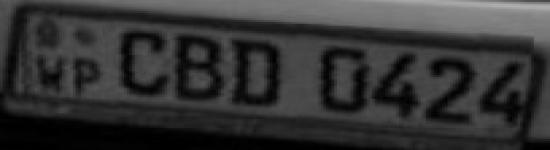0: (317, 42, 371, 116)
2: (422, 51, 479, 129)
4: (372, 49, 423, 121), (479, 56, 527, 128)
B: (172, 30, 228, 105)
C: (113, 25, 173, 100)
D: (228, 34, 287, 112)
P: (70, 55, 105, 100)
W: (31, 53, 69, 94)
